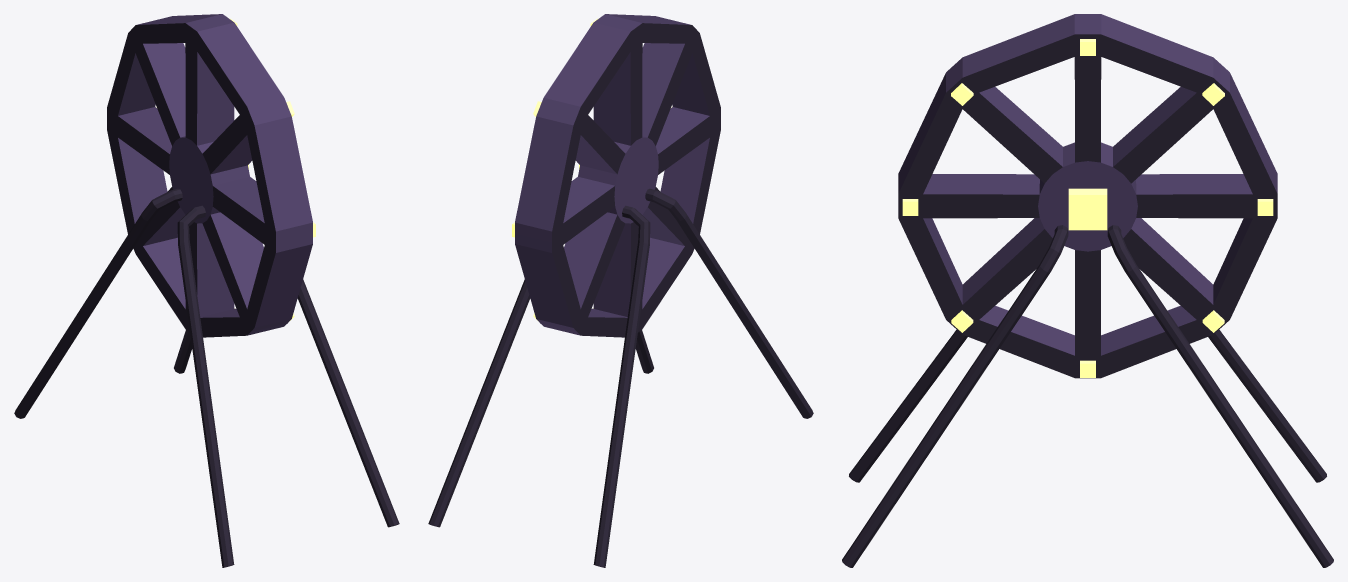
File: Grande Roue_Couleur.fbx
3 renders of one model, left to right at view 1: azimuth 30°, elevation 25°; view 2: azimuth 150°, elevation 25°; view 3: azimuth 270°, elevation 25°, orthographic. The views are drawn at different scales.
Parts seen in each view (by area): view 1: Cylinder; view 2: Cylinder; view 3: Cylinder.
Part boxes in pixels (x1,y1,x2,y2): Cylinder: [14, 14, 399, 567]; Cylinder: [428, 14, 813, 567]; Cylinder: [842, 14, 1333, 567].
Bounding box in the file's own units: 135 × 337 × 298.
